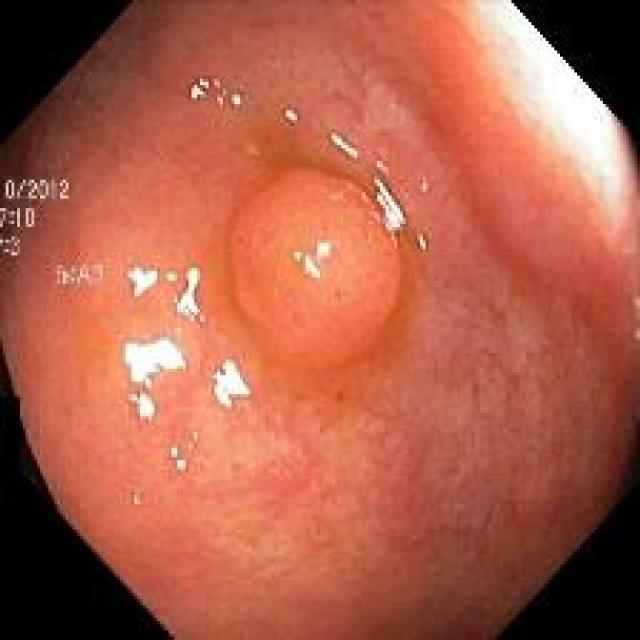Polyps: (231, 170, 400, 369)
